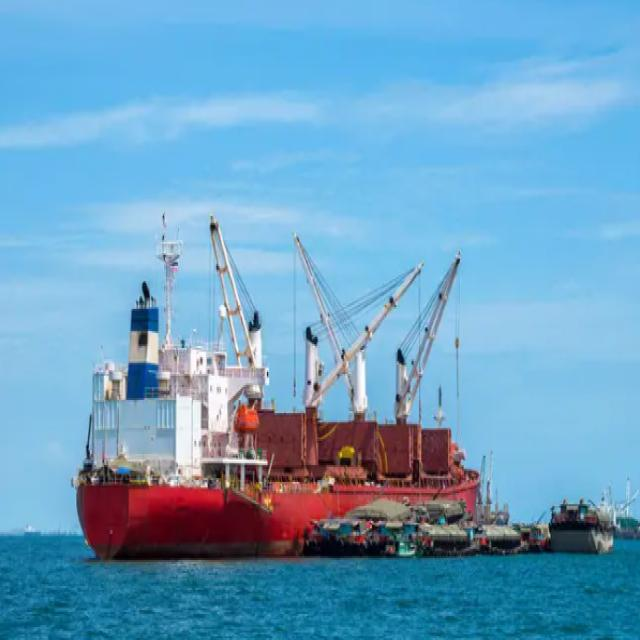cargoship: (70, 209, 484, 566)
